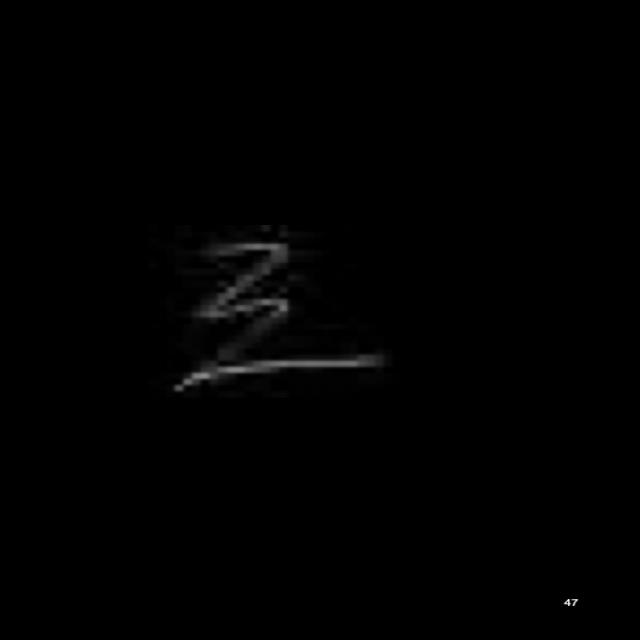3 -three-: (161, 226, 401, 399)
